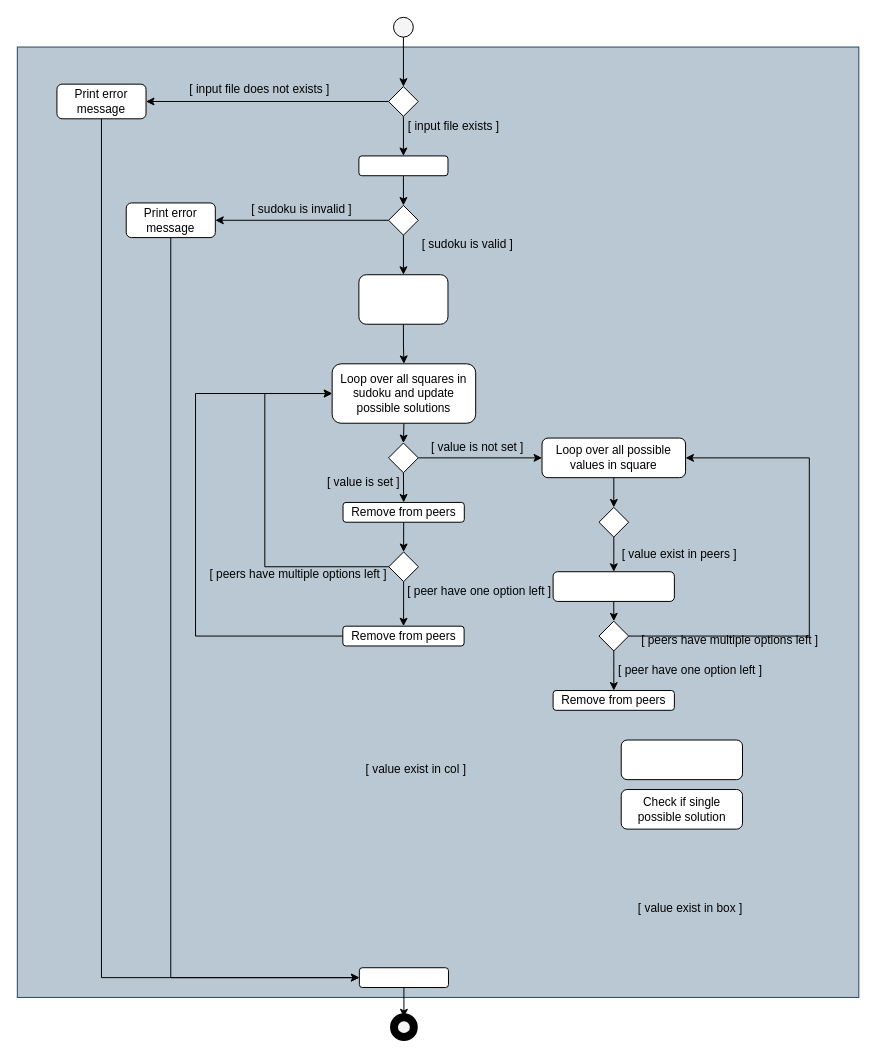
Image size: 876x1058. Some labels were removed from this diagram. The box of each missing label's shape, as (x1, y1, x2, y2) in pixels:
Exit program: (358, 967, 448, 988)
Generate grid with possible solutions: (358, 274, 448, 324)
Parse sudoku: (358, 155, 448, 176)
Remove from possible solution: (552, 571, 674, 601)
